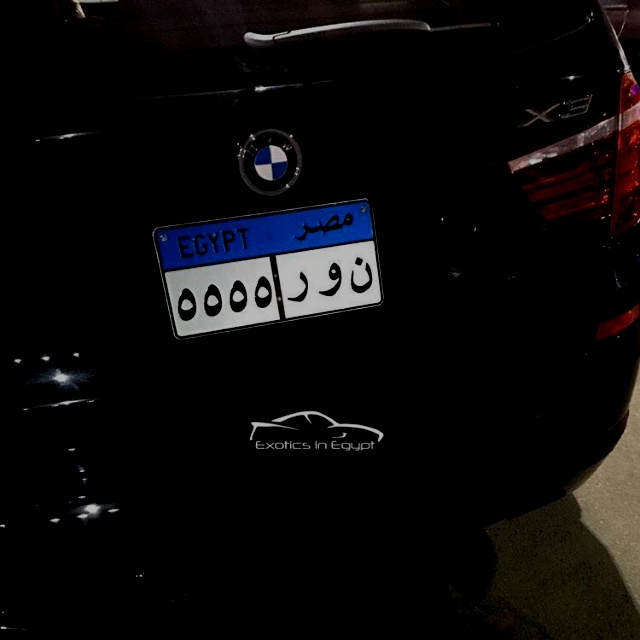License Plate: (152, 196, 387, 345)
